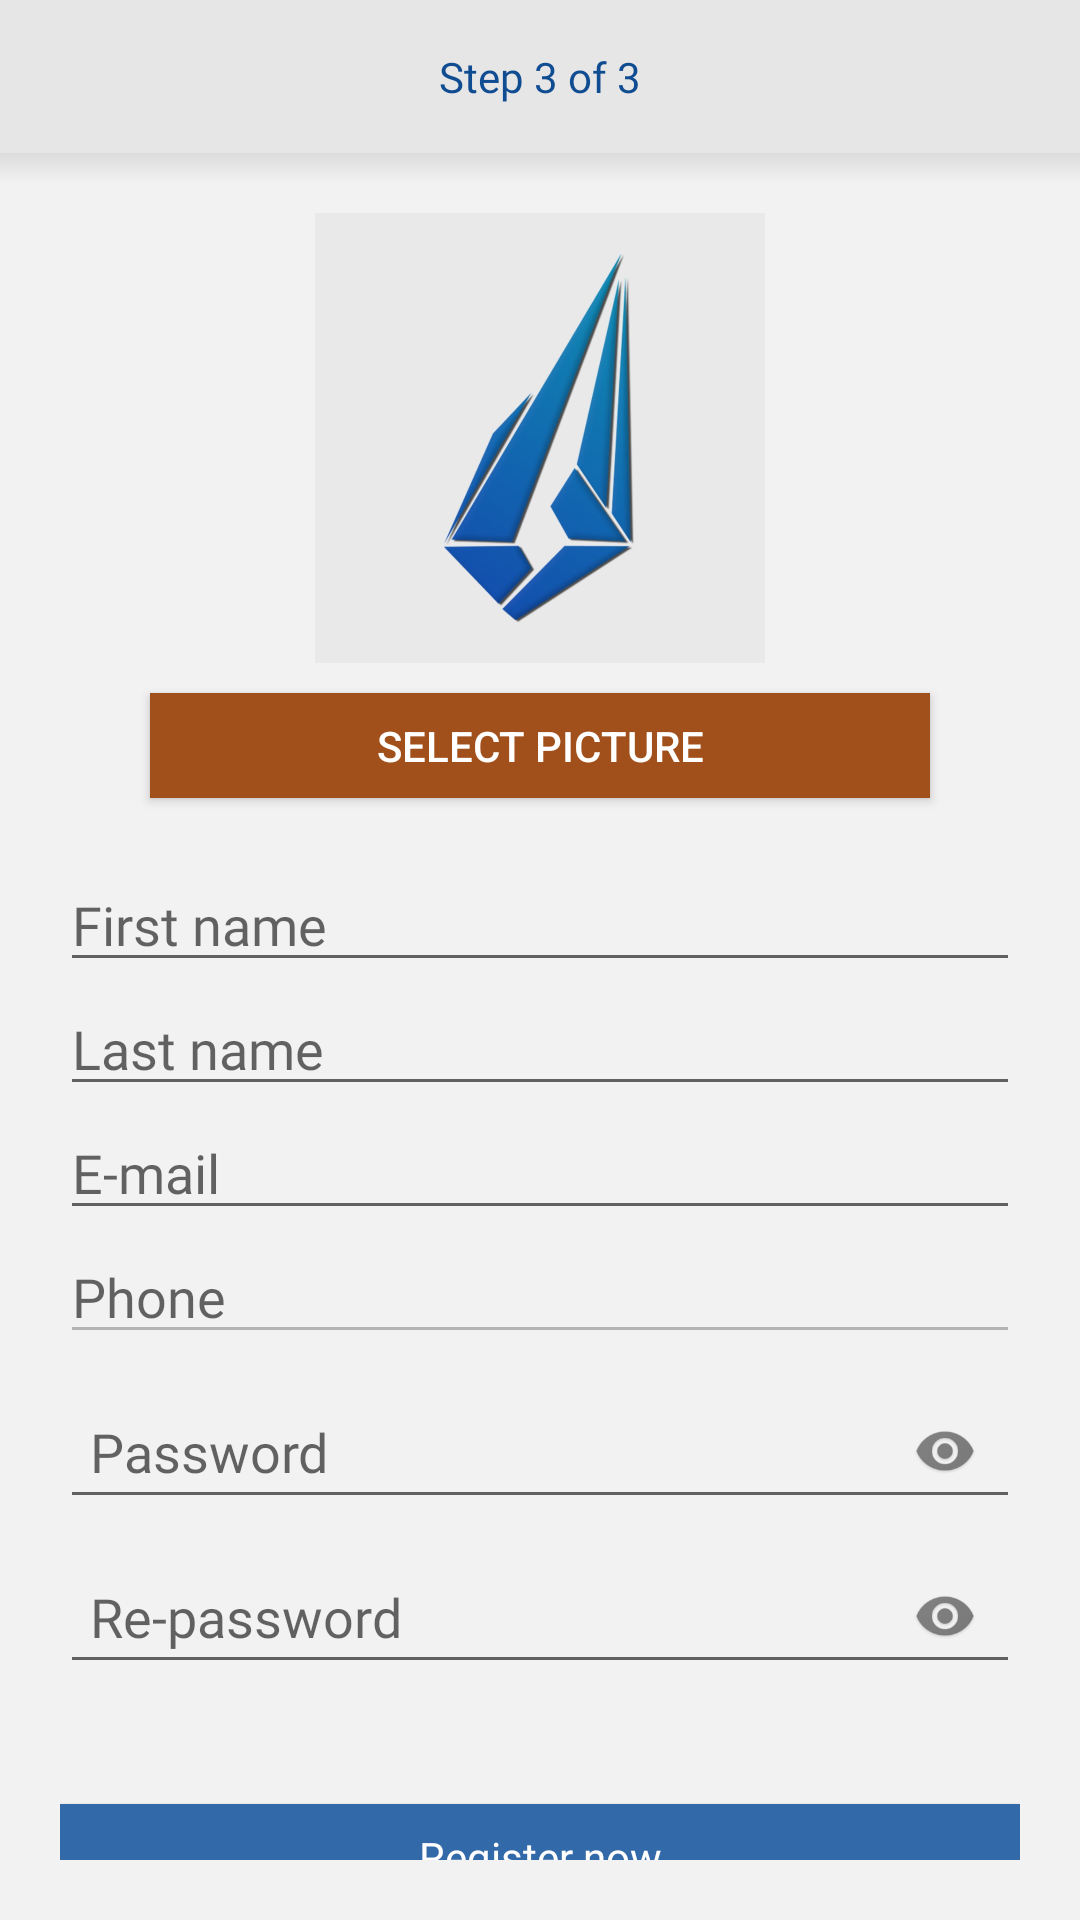

Where to tap for icons on this 1080w x 1920h app screen, as (x,y):
showpass: (945,1451), (945,1616)
